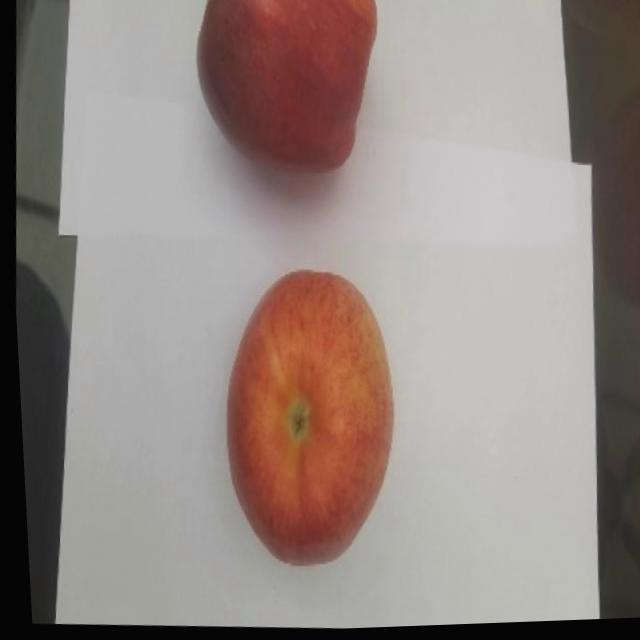Apple: (203, 262, 407, 579), (181, 0, 390, 185)
